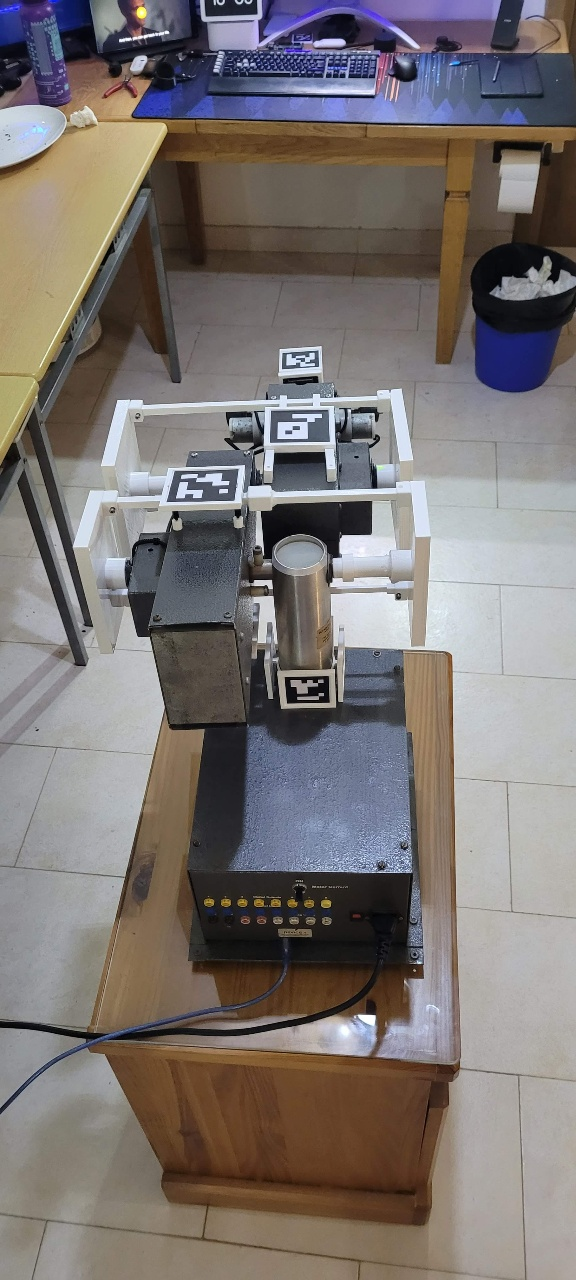Robot: (140, 243, 576, 1164)
